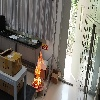fire: (33, 51, 44, 89), (79, 5, 84, 30)
